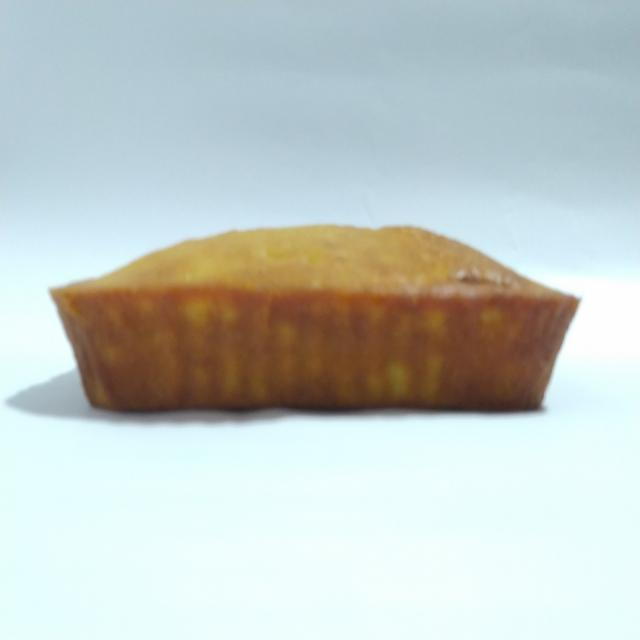Food: (37, 205, 590, 435)
